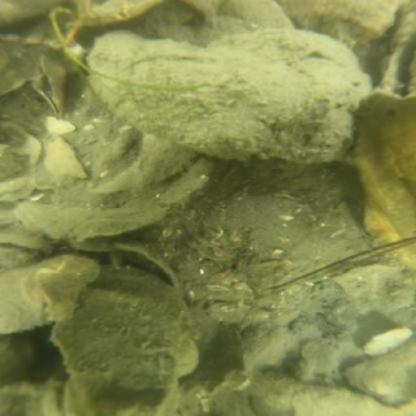Oyster-Closed: (87, 23, 379, 166)
